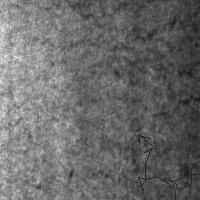crazing: (66, 1, 200, 87), (107, 82, 200, 199), (137, 134, 200, 200)
